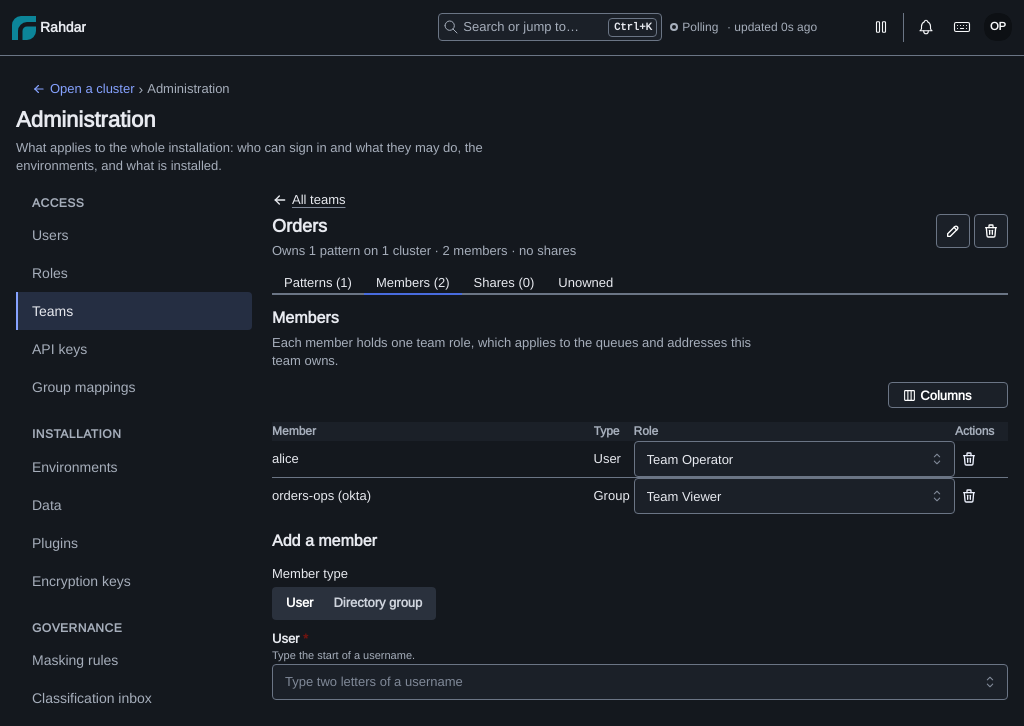
the Teams tab › opens the team and section the address names, and links back to the list
The width and height of the screenshot is (1024, 726).
Click the link "All teams" at (309, 200), box [272,191,346,210]
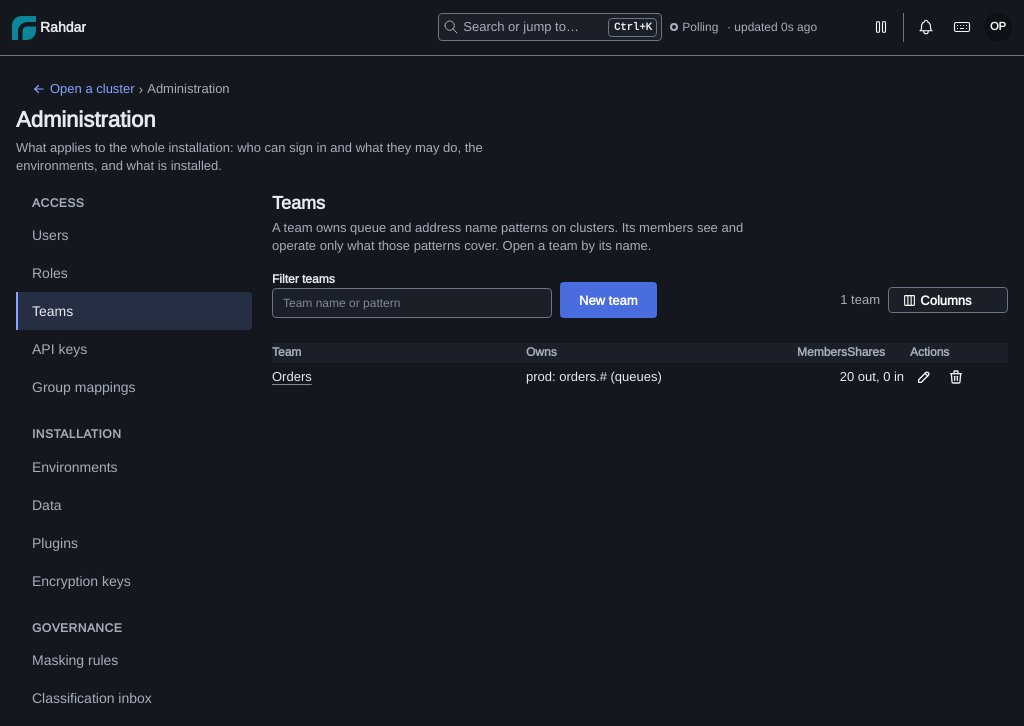
Check: the table named "Teams" is shown, box [272,343,1008,391]
